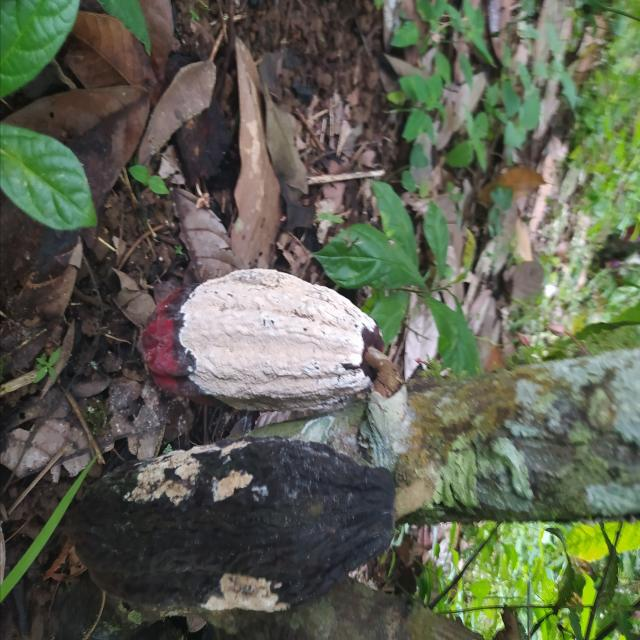Monilia: (69, 433, 399, 612), (140, 266, 383, 414)
